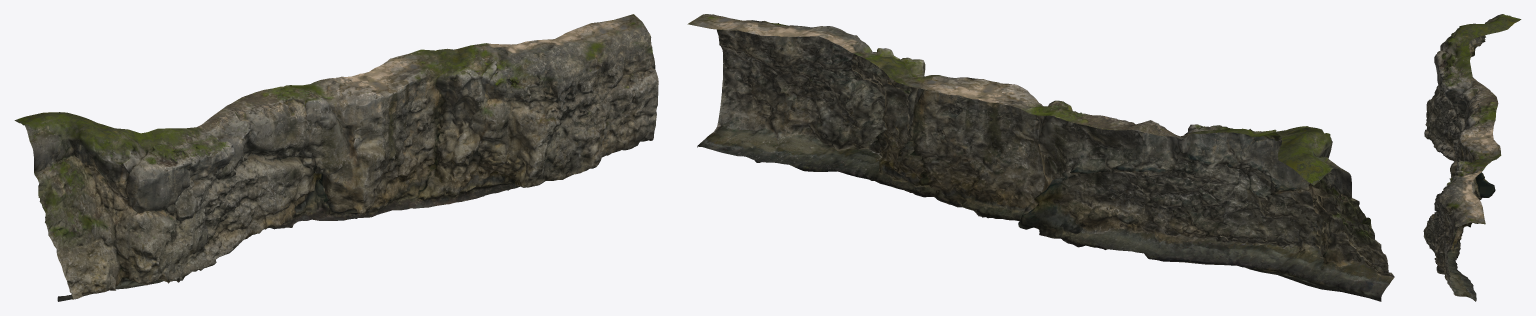
File: cliff-b-lod.glb
The picture shows the model from 3 angles, left to right: view 1: azimuth 30°, elevation 25°; view 2: azimuth 150°, elevation 25°; view 3: azimuth 270°, elevation 25°; orthographic projection. The views are drawn at different scales.
Parts seen in each view (by area): view 1: coastal_cliff_02_LOD0; view 2: coastal_cliff_02_LOD0; view 3: coastal_cliff_02_LOD0.
Boxes of the visible parts, box(x1,y1,x2,y2) form: coastal_cliff_02_LOD0: box(14, 14, 658, 301); coastal_cliff_02_LOD0: box(687, 14, 1394, 301); coastal_cliff_02_LOD0: box(1423, 14, 1521, 301).
Size of the model in its own units: 40.93 by 10.05 by 8.65.
1 material, 1 textured.
